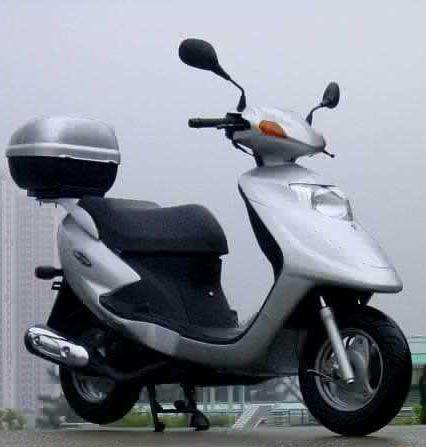motor: (15, 65, 415, 436)
